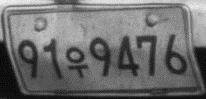1: (42, 38, 64, 81)
4: (115, 33, 140, 78)
6: (164, 34, 188, 74)
7: (135, 34, 158, 78)
9: (89, 35, 112, 78), (16, 39, 40, 80)
우: (65, 46, 89, 79)
